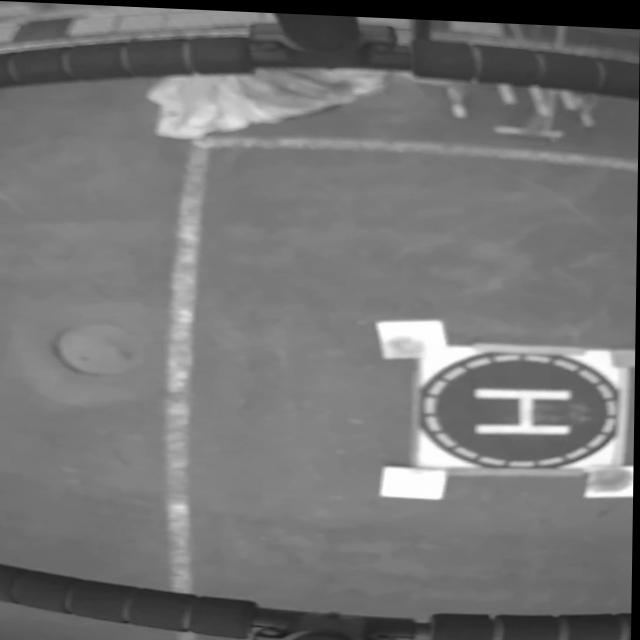Helipad: (474, 382, 571, 431)
